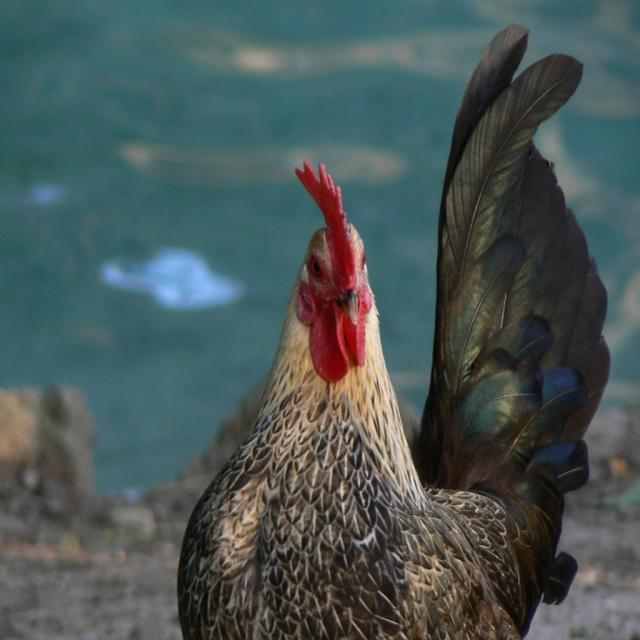Chicken: (177, 23, 610, 640)
